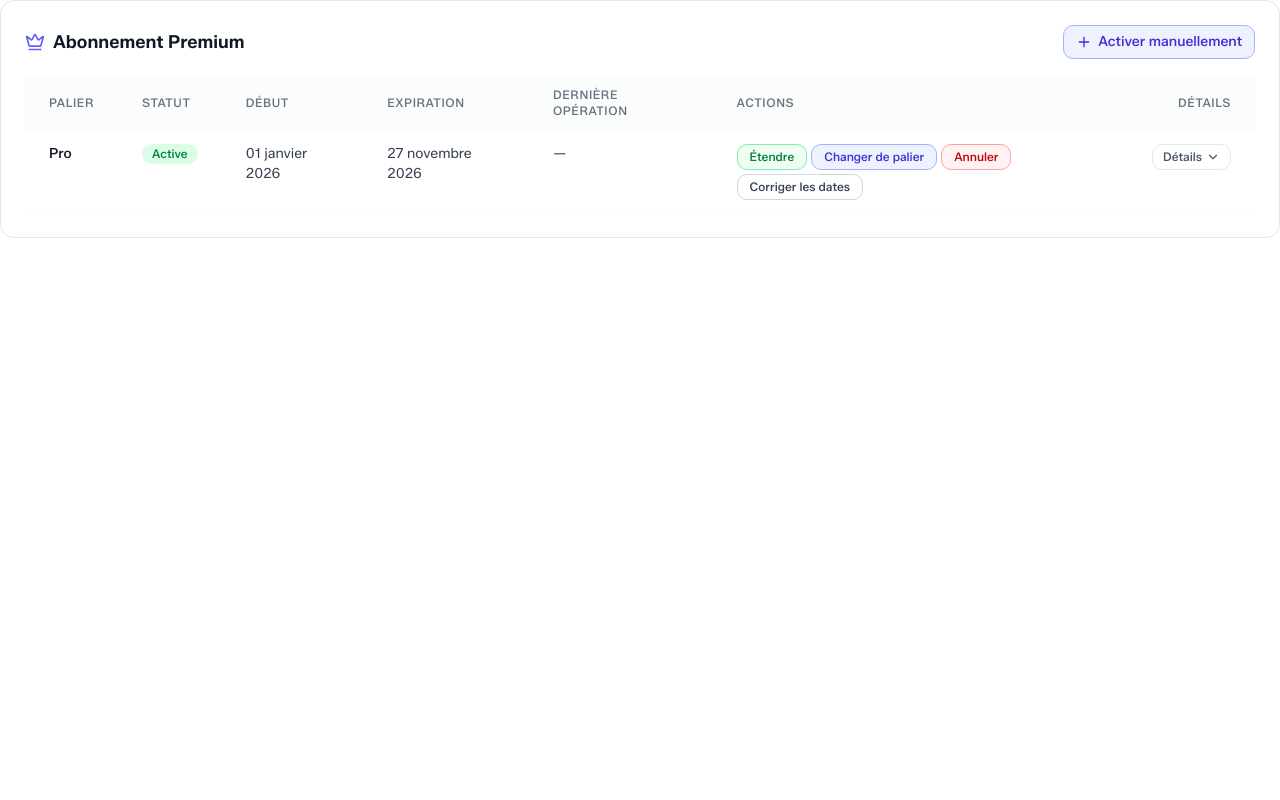
Test case: AdminFaceSubscriptionSection — FP-2.10 tier selector + change-tier flow › change-tier modal › surfaces SAME_TIER conflict and keeps modal open
Click the button with test id "change-tier-button": (874, 157) [811, 144, 937, 170]
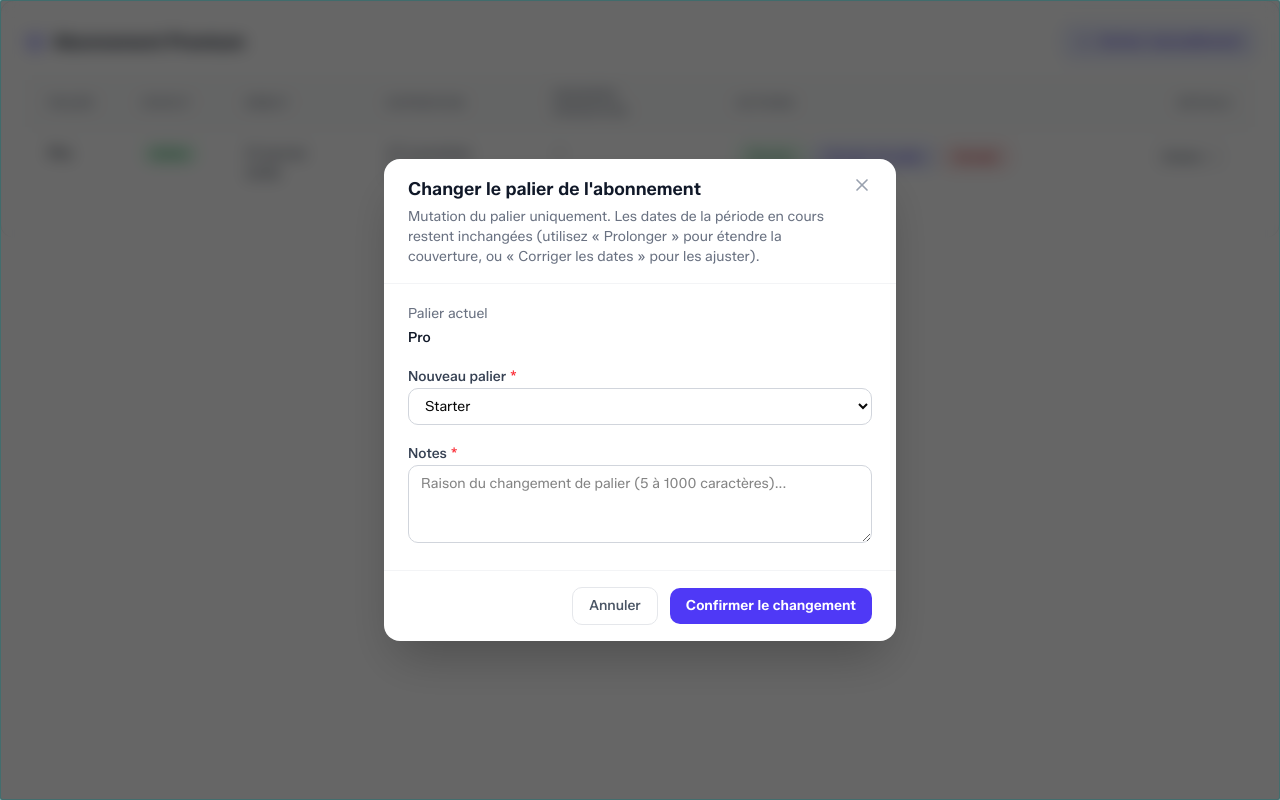
In the text box with test id "change-tier-notes": (640, 504) [408, 465, 872, 543], type "Same tier attempt"
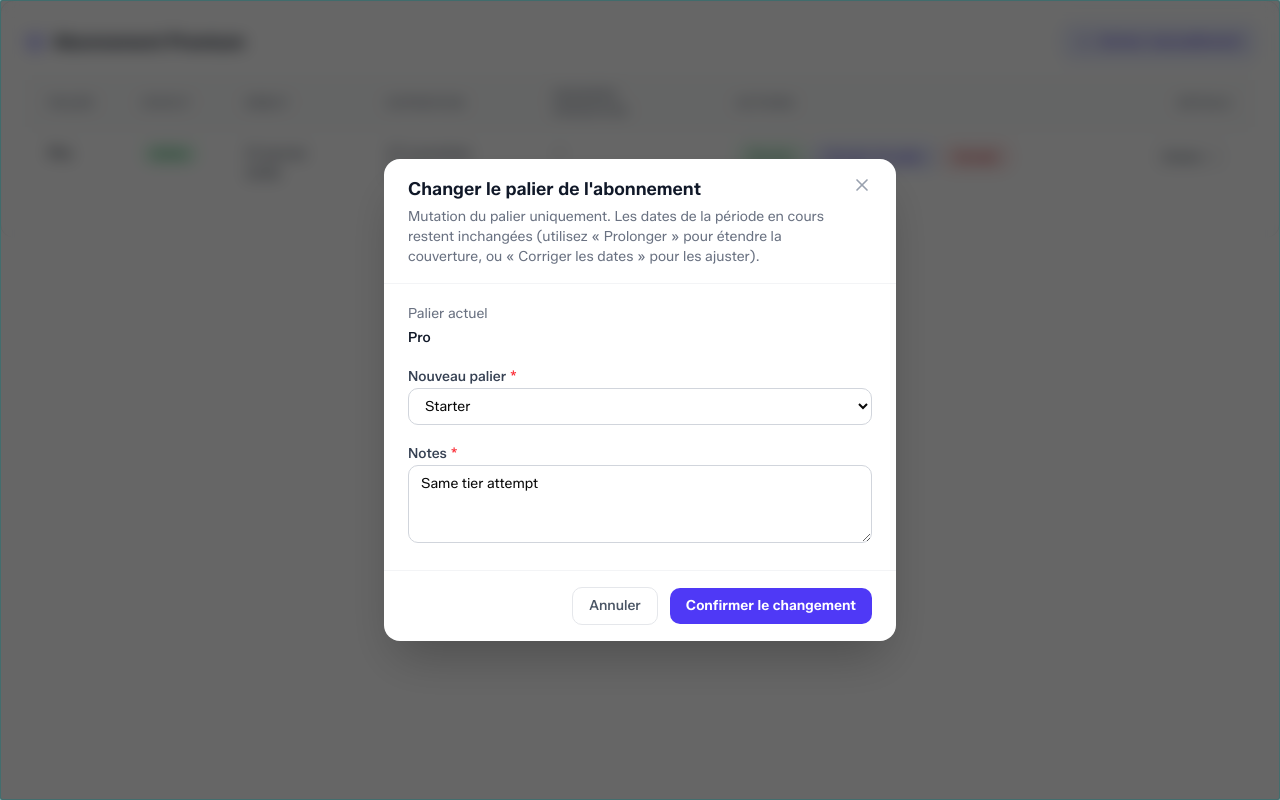
Click the button with test id "change-tier-submit": (771, 606) [670, 588, 872, 624]
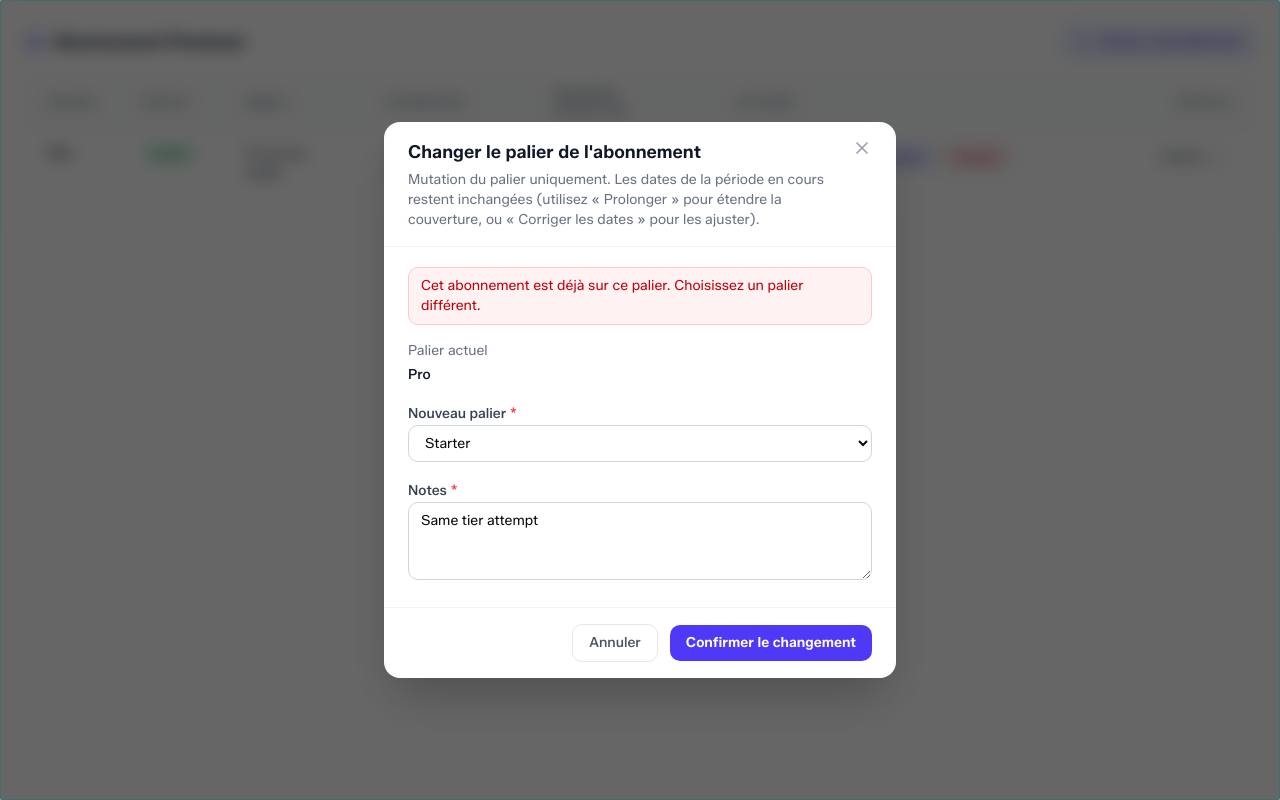
Check: the dialog with test id "admin-face-subscription-change-tier-modal" is shown
Check: the text with test id "admin-face-subscription-change-tier-error" is shown, box [408, 267, 872, 325]
Check: the text with test id "admin-face-subscription-change-tier-error" shows "déjà sur ce palier", box [421, 277, 803, 314]
